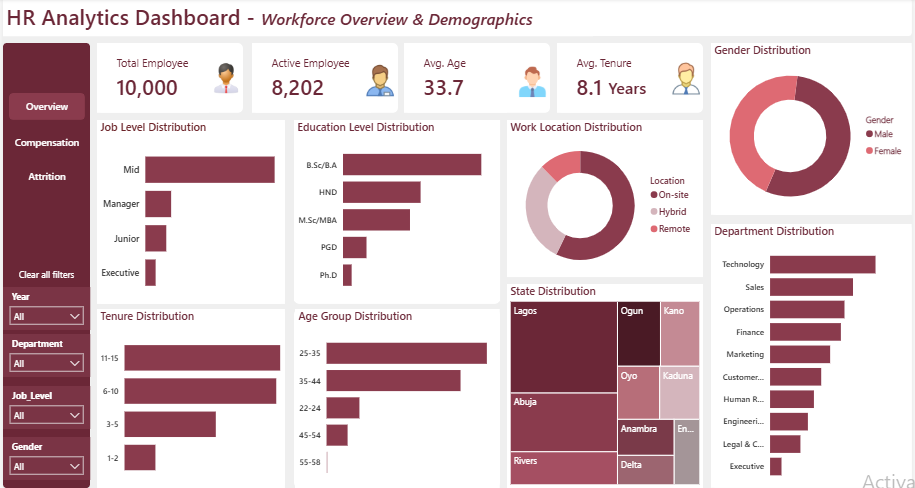

The page's visual inventory and layout, read from the dashboard file:
{"tool":"powerbi","page":{"name":"Overview","canvas":[1354,730],"ordinal":0},"visuals":[{"type":"group","id":"g1","title":"Group 1","box":[0,0,1354.2,730],"z":0},{"type":"shape","box":[0,67,129.6,663],"z":0,"group":"g1"},{"type":"shape","box":[0,0,1354.2,56.6],"z":1000,"group":"g1"},{"type":"textbox","box":[0,0,879,56.6],"z":1000},{"type":"shape","box":[140,67,217.5,104.3],"z":2000,"group":"g1"},{"type":"cardVisual","fields":{"Data":["Measures Table.Total Employee"]},"box":[140,67,166.9,104.3],"z":2000},{"type":"shape","box":[1054.8,67,299.4,256.2],"z":3000,"group":"g1"},{"type":"image","box":[306.9,73,50.7,92.4],"z":3000},{"type":"shape","box":[371,67,217.5,104.3],"z":4000,"group":"g1"},{"type":"cardVisual","fields":{"Data":["Measures Table.Active Employee"]},"box":[371,67,177.3,104.3],"z":4000},{"type":"shape","box":[597.4,67,217.5,104.3],"z":5000,"group":"g1"},{"type":"image","box":[536.3,73,50.7,99.8],"z":5000},{"type":"cardVisual","fields":{"Data":["Measures Table.Avg Age"]},"box":[597.4,67,153.4,104.3],"z":6000},{"type":"shape","box":[825.3,67,217.5,104.3],"z":6000,"group":"g1"},{"type":"cardVisual","fields":{"Data":["Measures Table.Avg Tenure(Active)"]},"box":[825.3,67,153.4,104.3],"z":7000},{"type":"shape","box":[140,181.8,280.1,274.1],"z":7000,"group":"g1"},{"type":"textbox","box":[896.9,111.7,81.9,43.2],"z":8000},{"type":"shape","box":[433.5,181.8,306.9,274.1],"z":8000,"group":"g1"},{"type":"image","box":[992.2,68.5,50.7,102.8],"z":9000},{"type":"shape","box":[750.9,181.8,292,233.9],"z":9000,"group":"g1"},{"type":"donutChart","title":"Gender Distribution","fields":{"Category":["DimEmloyees.Gender"],"Y":["Measures Table.Active Employee"]},"box":[1054.8,67,299.4,256.2],"z":10000},{"type":"shape","box":[1054.8,336.7,299.4,393.3],"z":10000,"group":"g1"},{"type":"donutChart","title":"Work Location Distribution","fields":{"Category":["DimJob.Work_Location"],"Y":["Measures Table.Active Employee"]},"box":[750.9,181.8,292,233.9],"z":11000},{"type":"clusteredBarChart","title":" Education Level Distribution","fields":{"Category":["DimEmloyees.Education_Level"],"Y":["Measures Table.Active Employee"]},"box":[433.5,181.8,306.9,269.7],"z":12000},{"type":"shape","box":[140,463.3,280.1,266.7],"z":12000,"group":"g1"},{"type":"clusteredBarChart","title":"Job Level Distribution","fields":{"Category":["DimJob.Job_Level"],"Y":["Measures Table.Active Employee"]},"box":[140,181.8,280.1,274.1],"z":13000},{"type":"shape","box":[433.5,463.3,306.9,266.7],"z":13000,"group":"g1"},{"type":"clusteredBarChart","title":"Department Distribution","fields":{"Category":["DimJob.Department"],"Y":["Measures Table.Active Employee"]},"box":[1054.8,336.7,299.4,393.3],"z":14000},{"type":"shape","box":[750.9,426.1,292,303.9],"z":14000,"group":"g1"},{"type":"image","box":[762.8,73,52.1,104.3],"z":14010,"group":"g1"},{"type":"clusteredBarChart","title":"Tenure Distribution","fields":{"Category":["FactEmployee.Years Of Service Band"],"Y":["Measures Table.Active Employee"]},"box":[140,463.3,280.1,266.7],"z":15000},{"type":"clusteredBarChart","title":"Age Group Distribution","fields":{"Category":["DimEmloyees.Age Group"],"Y":["Measures Table.Active Employee"]},"box":[435,463.3,305.4,266.7],"z":16000},{"type":"treemap","title":"State Distribution","fields":{"Group":["DimEmloyees.State_of_Origin"],"Values":["Measures Table.Active Employee"]},"box":[750.9,426.1,292,303.9],"z":17000},{"type":"slicer","fields":{"Values":["DimDate.Year"]},"box":[0,430.6,129.6,64.1],"z":18000},{"type":"slicer","fields":{"Values":["DimJob.Job_Level"]},"box":[0,578,129.6,64.1],"z":20000},{"type":"slicer","fields":{"Values":["DimEmloyees.Gender"]},"box":[0,654,129.6,64.1],"z":21000},{"type":"slicer","fields":{"Values":["DimJob.Department"]},"box":[0,500.6,129.6,64.1],"z":22000},{"type":"actionButton","box":[16.4,393.3,96.8,37.2],"z":23000},{"type":"actionButton","box":[8.9,141.5,113.2,40.2],"z":24000},{"type":"actionButton","box":[8.9,195.2,113.2,40.2],"z":25000},{"type":"actionButton","box":[8.9,245.8,113.2,40.2],"z":26000}]}

Visuals, with their boxes in screenshot pixels (x1, y1, x2, y2), scaled from the page's 1354x730 canvas onto the 915x488 screenshot:
"Group 1" group: rect(0, 0, 914, 487)
shape: rect(0, 45, 88, 487)
shape: rect(0, 0, 914, 38)
textbox: rect(0, 0, 594, 38)
shape: rect(95, 45, 242, 115)
cardVisual - Measures Table.Total Employee: rect(95, 45, 207, 115)
shape: rect(713, 45, 914, 216)
image: rect(207, 49, 242, 111)
shape: rect(251, 45, 398, 115)
cardVisual - Measures Table.Active Employee: rect(251, 45, 371, 115)
shape: rect(404, 45, 551, 115)
image: rect(362, 49, 397, 116)
cardVisual - Measures Table.Avg Age: rect(404, 45, 507, 115)
shape: rect(558, 45, 705, 115)
cardVisual - Measures Table.Avg Tenure(Active): rect(558, 45, 661, 115)
shape: rect(95, 122, 284, 305)
textbox: rect(606, 75, 661, 104)
shape: rect(293, 122, 500, 305)
image: rect(671, 46, 705, 115)
shape: rect(507, 122, 705, 278)
"Gender Distribution" donutChart: rect(713, 45, 914, 216)
shape: rect(713, 225, 914, 487)
"Work Location Distribution" donutChart: rect(507, 122, 705, 278)
" Education Level Distribution" clusteredBarChart: rect(293, 122, 500, 302)
shape: rect(95, 310, 284, 487)
"Job Level Distribution" clusteredBarChart: rect(95, 122, 284, 305)
shape: rect(293, 310, 500, 487)
"Department Distribution" clusteredBarChart: rect(713, 225, 914, 487)
shape: rect(507, 285, 705, 487)
image: rect(515, 49, 551, 119)
"Tenure Distribution" clusteredBarChart: rect(95, 310, 284, 487)
"Age Group Distribution" clusteredBarChart: rect(294, 310, 500, 487)
"State Distribution" treemap: rect(507, 285, 705, 487)
slicer - DimDate.Year: rect(0, 288, 88, 331)
slicer - DimJob.Job_Level: rect(0, 386, 88, 429)
slicer - DimEmloyees.Gender: rect(0, 437, 88, 480)
slicer - DimJob.Department: rect(0, 335, 88, 377)
actionButton: rect(11, 263, 76, 288)
actionButton: rect(6, 95, 83, 121)
actionButton: rect(6, 130, 83, 157)
actionButton: rect(6, 164, 83, 191)
